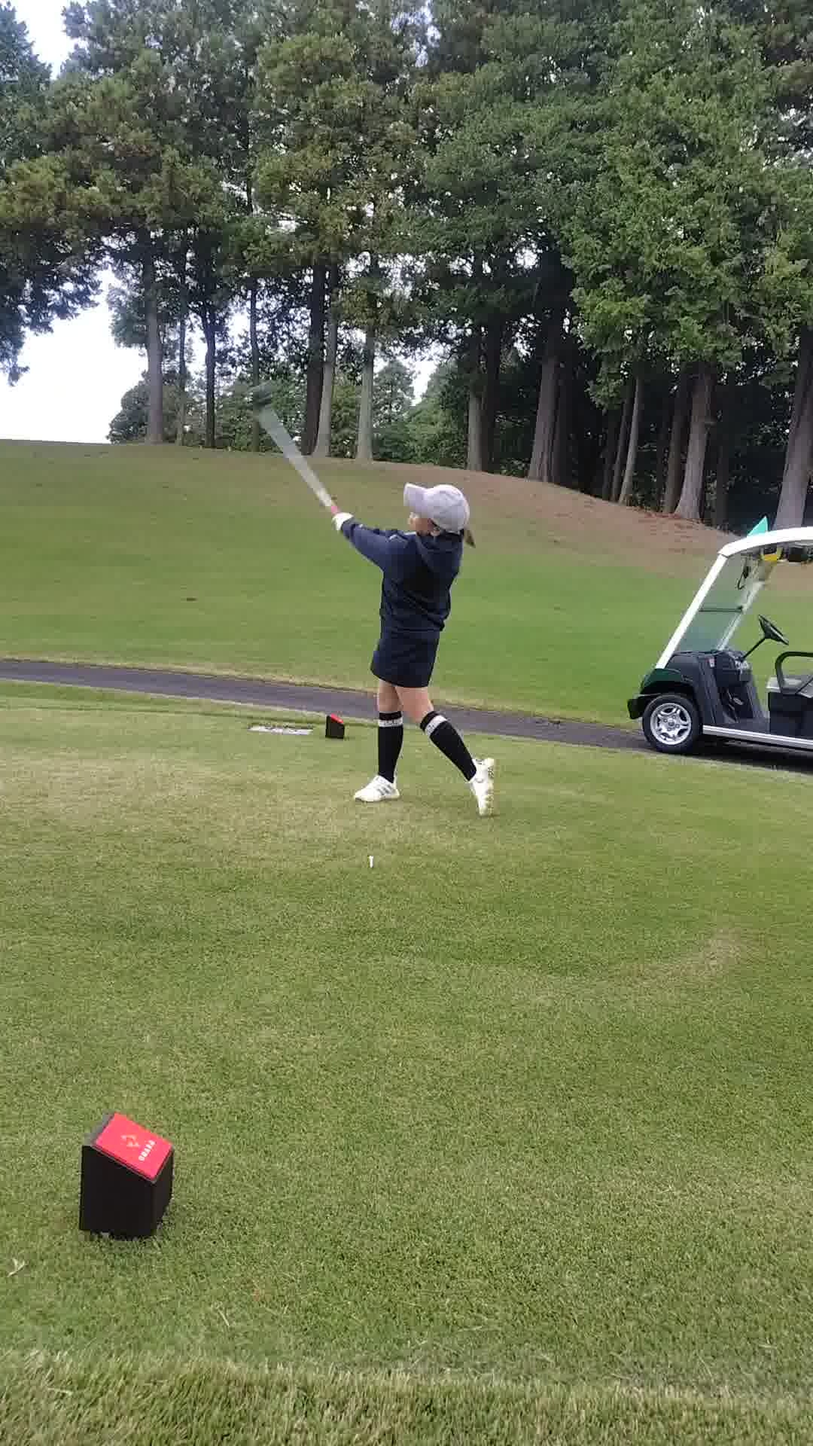clubhead: (197, 351, 318, 430)
